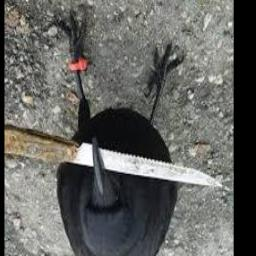Crow: (52, 13, 186, 256)
